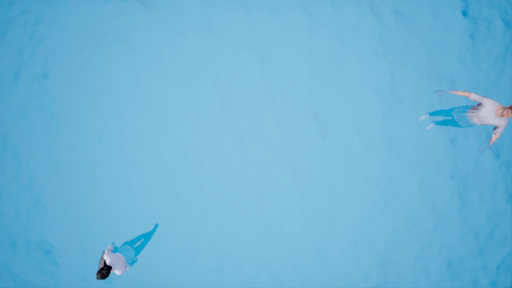person: (422, 79, 512, 146), (86, 212, 162, 281)
